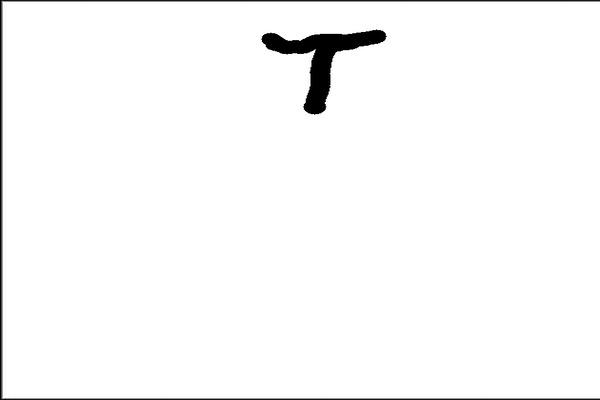T: (254, 19, 392, 115)
